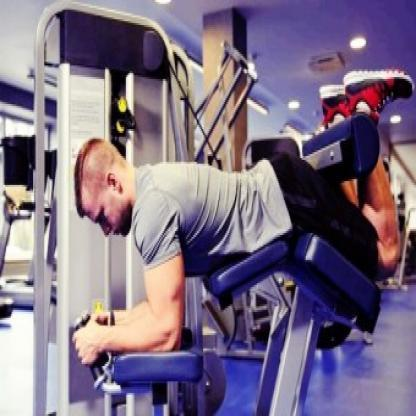reg curl machine: (33, 0, 416, 416)
